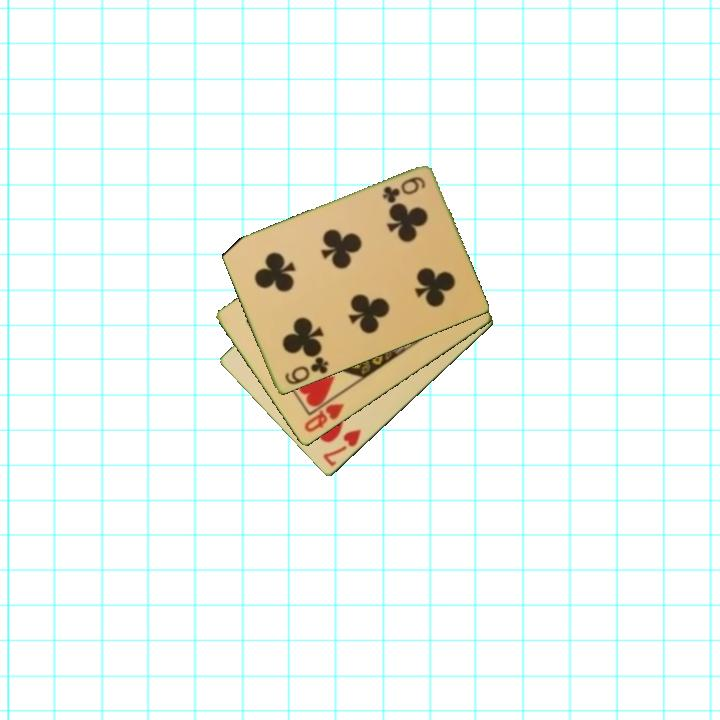6c: (281, 353, 332, 388), (378, 173, 428, 206)
7h: (319, 426, 364, 470)
Qh: (300, 400, 347, 436)
